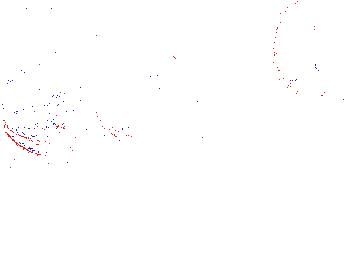moon jellyfish: (272, 1, 346, 103), (92, 47, 157, 140), (84, 7, 183, 59), (3, 104, 91, 157)
